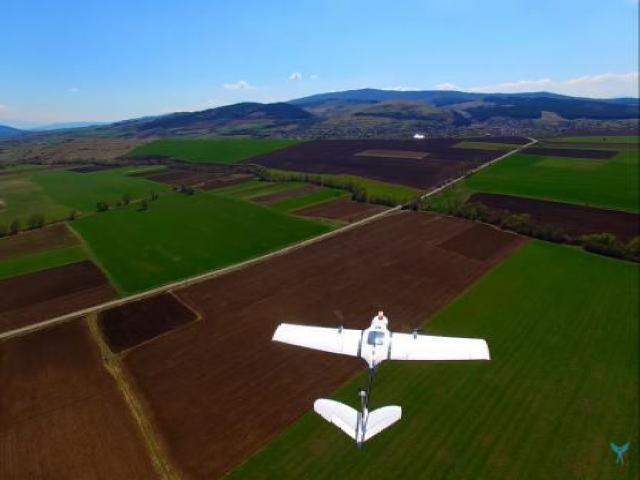uav: (264, 302, 494, 455)
